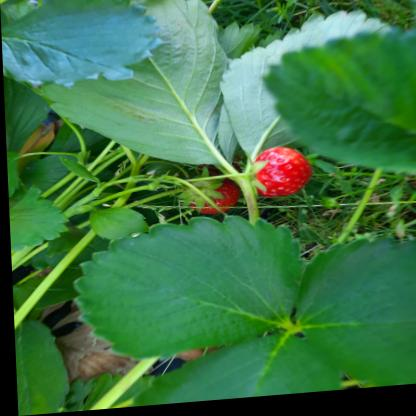ripe: (249, 154, 307, 200), (184, 179, 240, 216)
